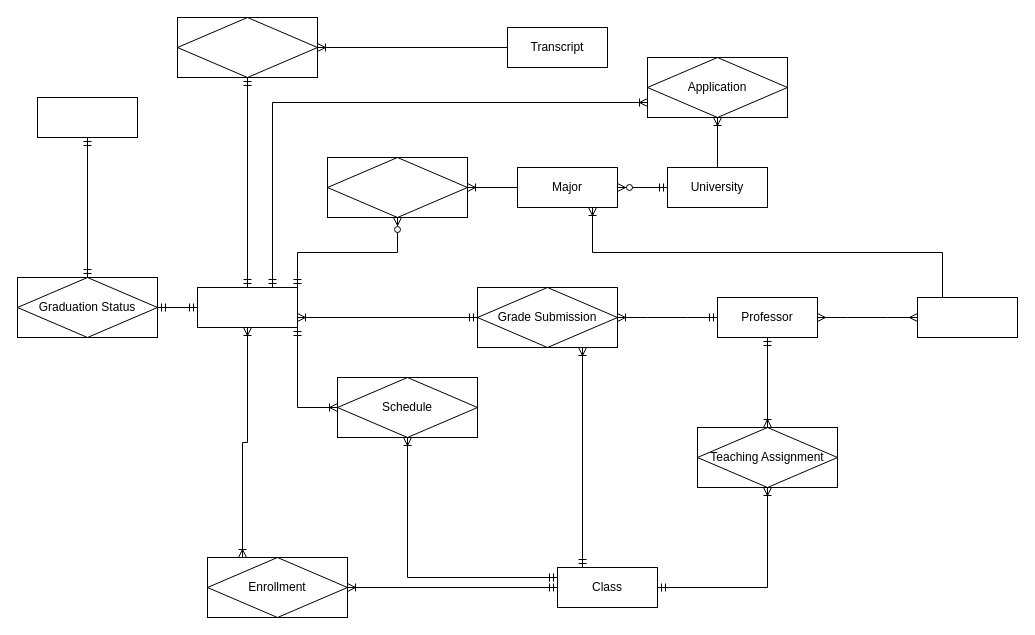
This 1035x635 diagram has some shape labels left out. Each missing label, with the centre of its shape:
Faculty: the point at 967,317
Grade Record: the point at 247,47
Graduation: the point at 87,117
Major Assignement: the point at 397,187
Student: the point at 247,307
